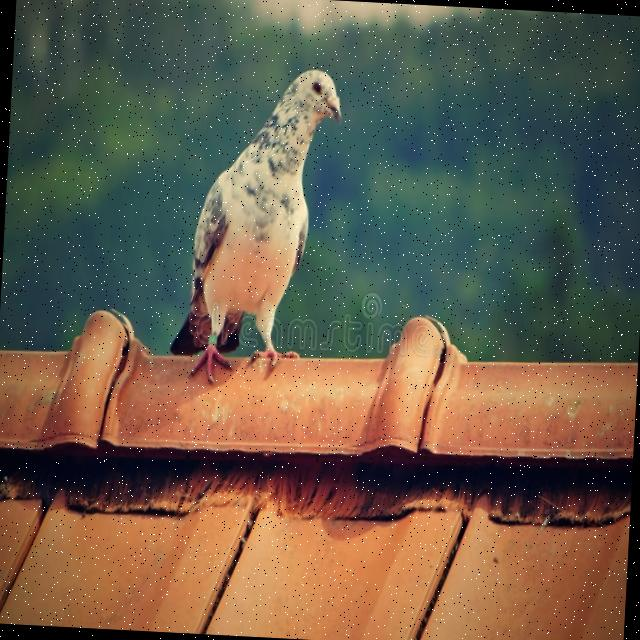bird: (169, 62, 346, 392)
